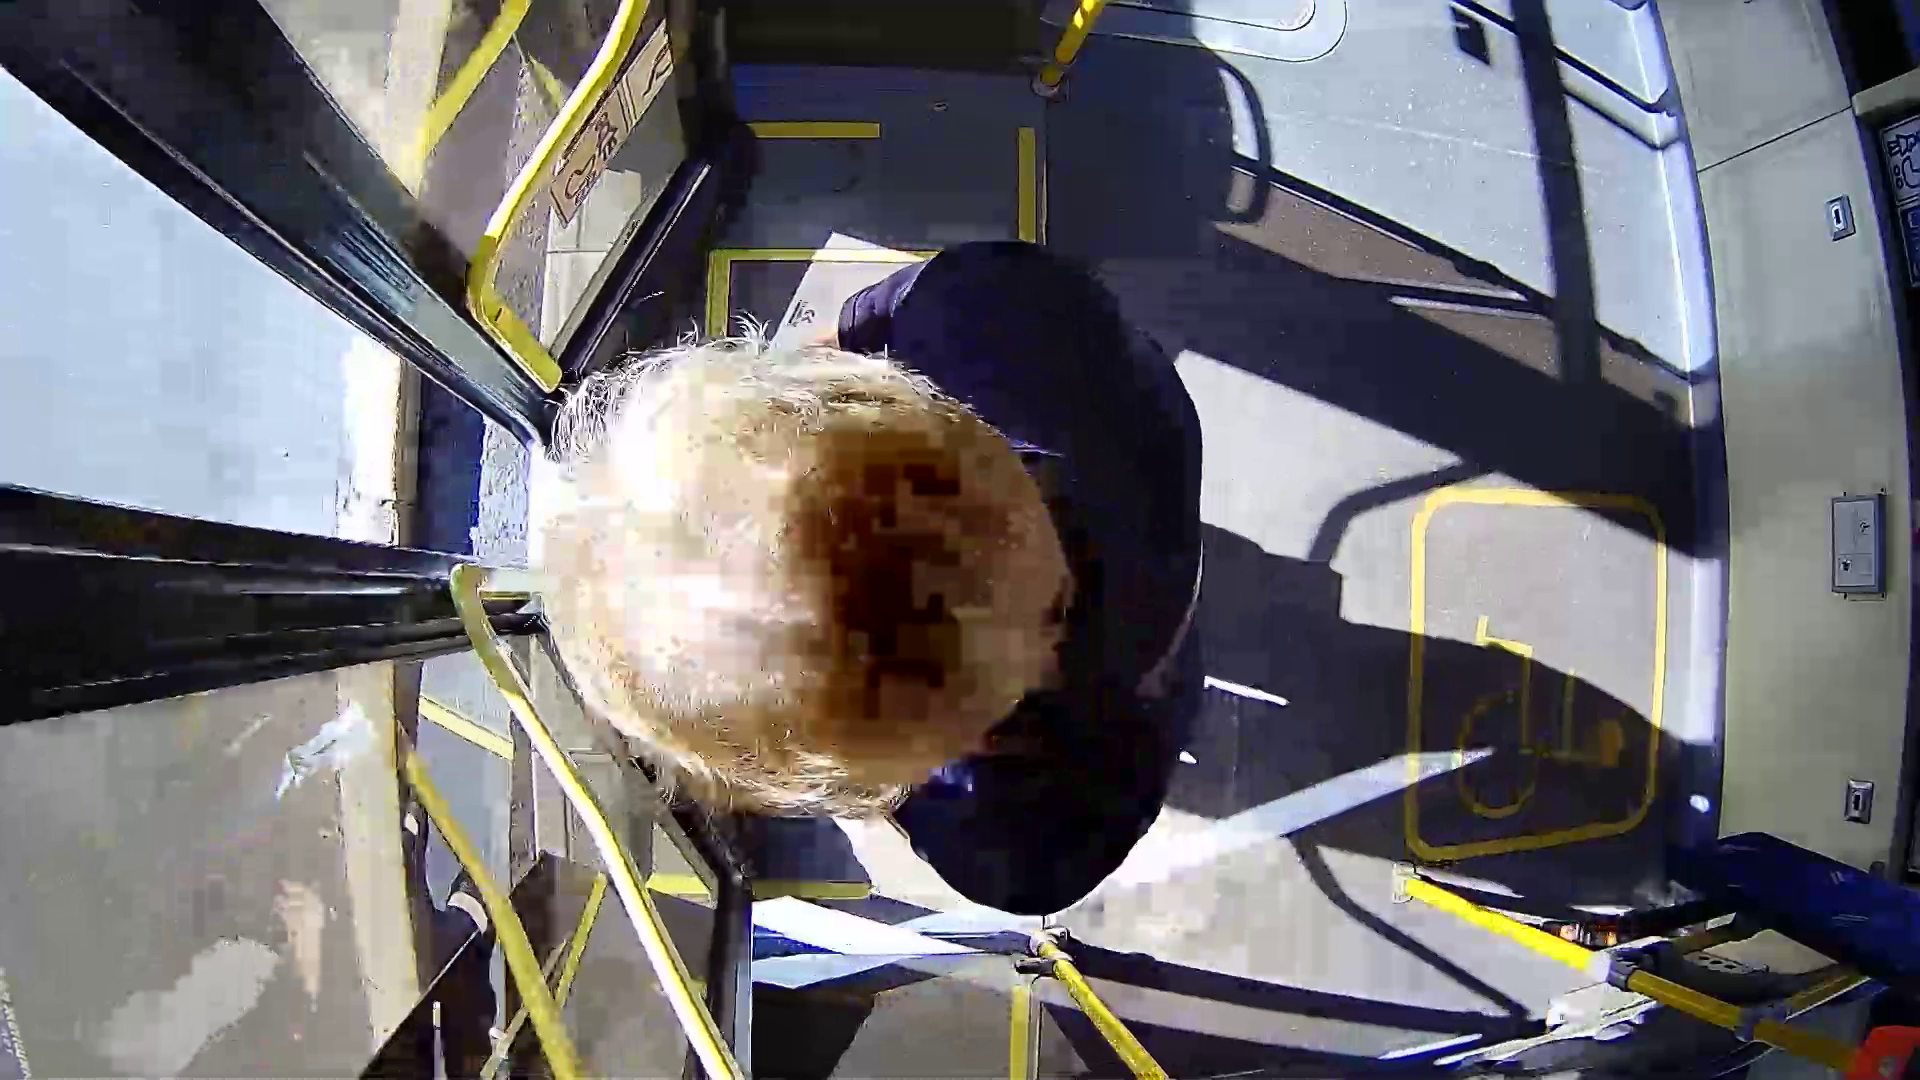person: (520, 237, 1242, 906)
